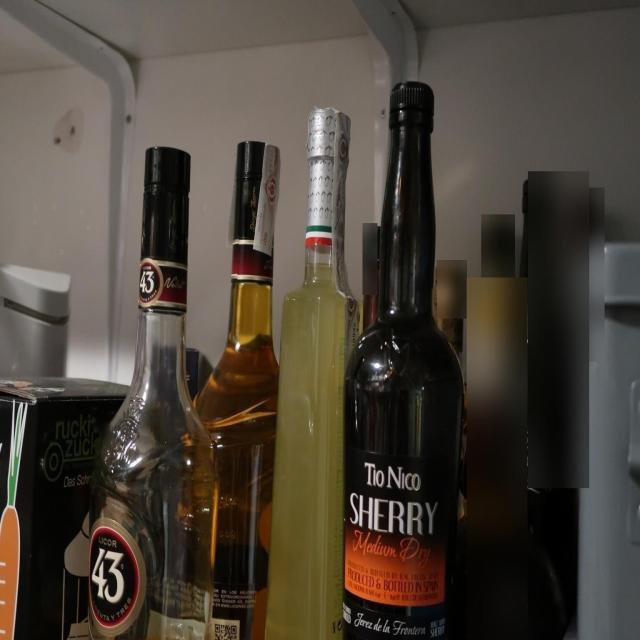bottle-glass: (338, 77, 466, 639), (84, 146, 223, 640), (265, 104, 356, 639), (191, 139, 284, 637)
